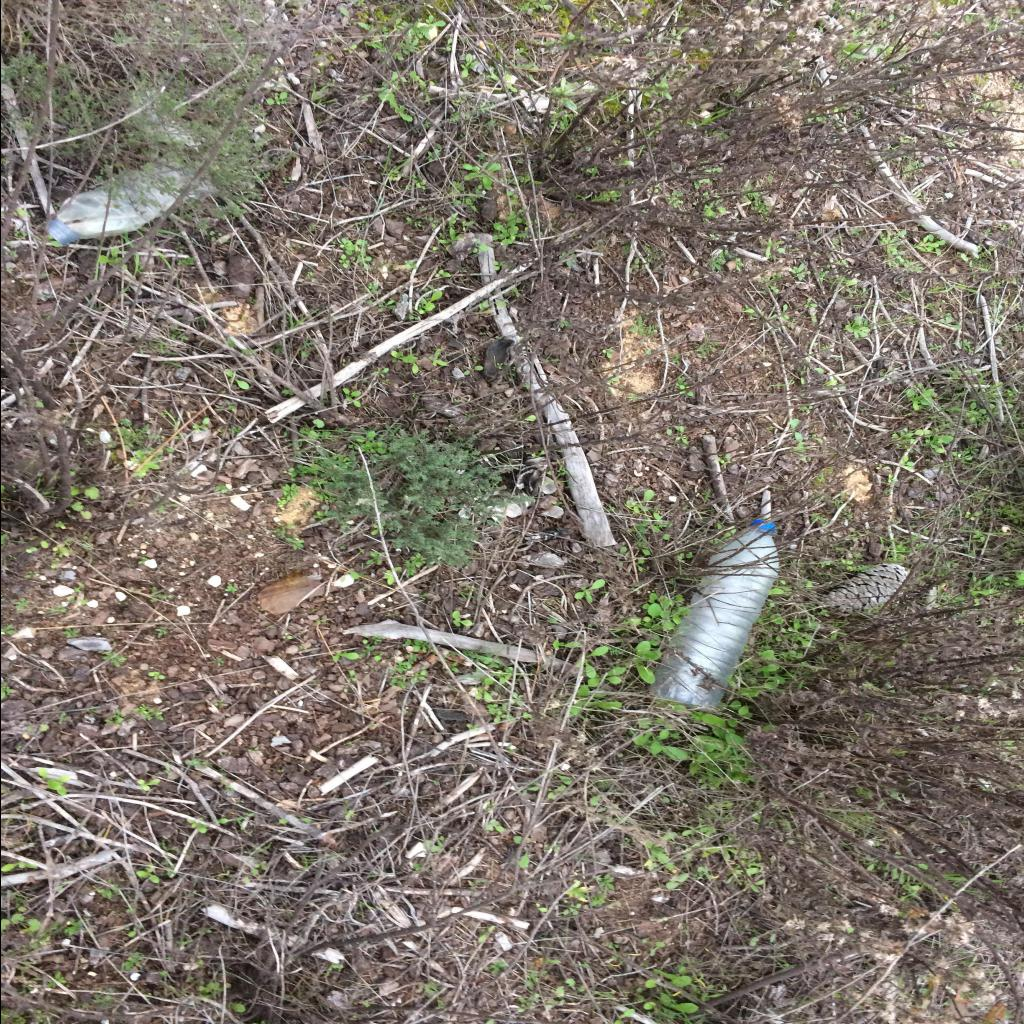Clear plastic bottle: (647, 520, 779, 710), (48, 162, 184, 248)
